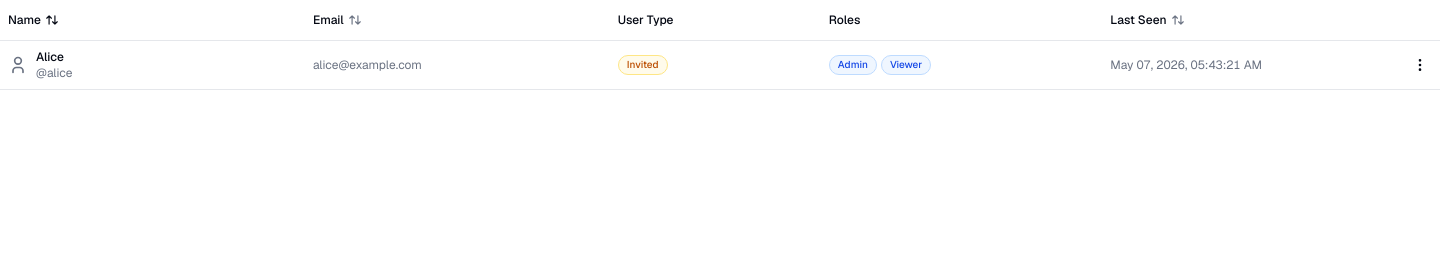
Test: UsersTable › shows invited-only reset and delete actions in a wider menu
Step 1. Click the button named "Actions for Alice" → (1420,64), box x1=1408 y1=52 x2=1432 y2=76
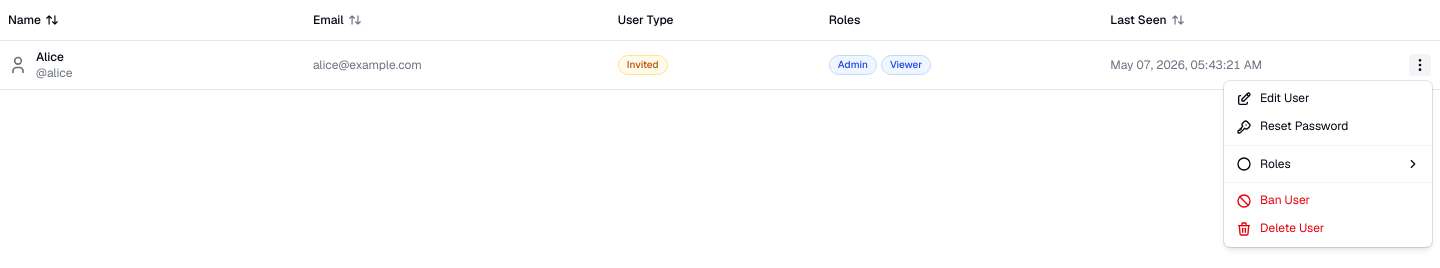
Expected: the menu item "Reset Password" is shown, x1=1236 y1=118 x2=1348 y2=135
Expected: the menu item "Delete User" is shown, x1=1236 y1=220 x2=1324 y2=237
Expected: the menu items read "Edit User", "Reset Password", "Roles", "Ban User", "Delete User", in this order, x1=1236 y1=90 x2=1310 y2=107; x1=1236 y1=118 x2=1348 y2=135; x1=1236 y1=156 x2=1420 y2=172; x1=1236 y1=192 x2=1310 y2=209; x1=1236 y1=220 x2=1324 y2=237
